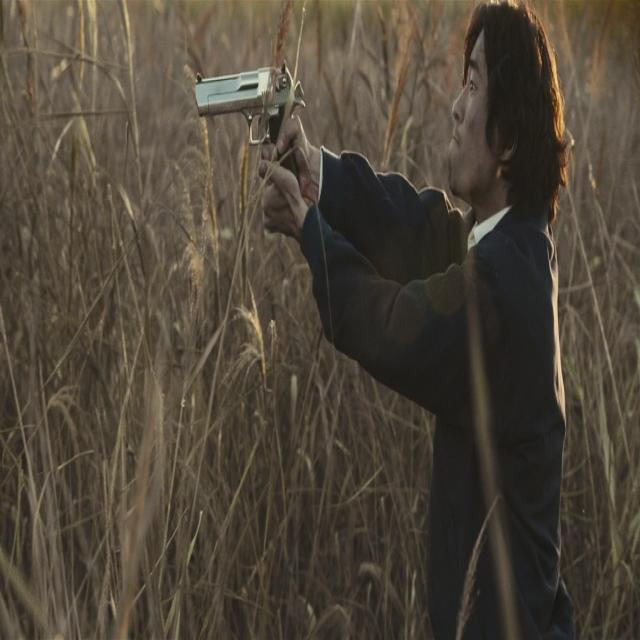gun-knife-thesis - v11 Yolov5 augmented: (191, 42, 305, 230)
